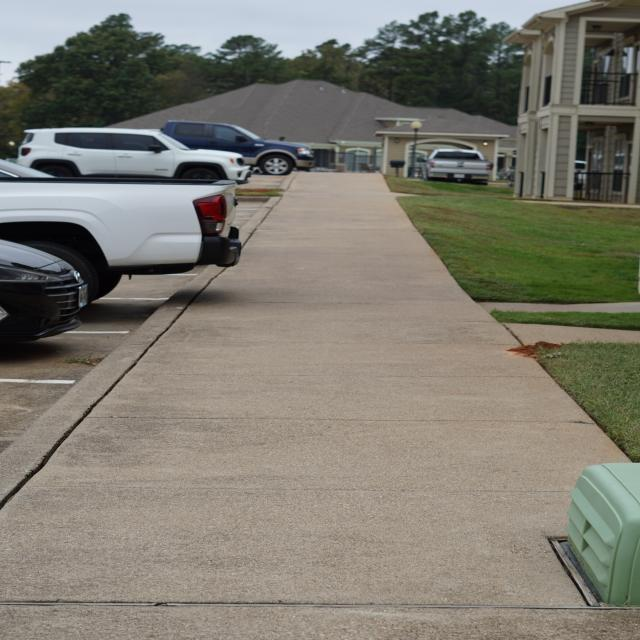Automobile: (0, 121, 315, 341), (421, 149, 491, 184)
Obstacle: (566, 462, 640, 606)
Road: (0, 266, 222, 452)
Sidewalk: (0, 173, 638, 640)
